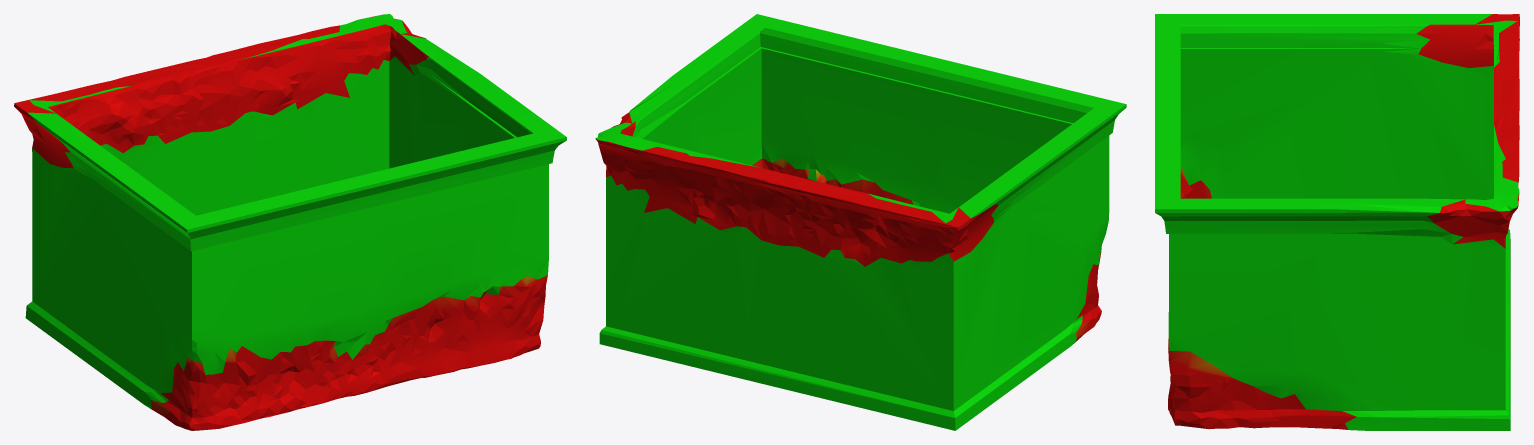
Rendered from BuildingBaseDam_03.fbx.
3 views of the same model, side by side, from view 1: azimuth 30°, elevation 25°; view 2: azimuth 150°, elevation 25°; view 3: azimuth 270°, elevation 25° (orthographic). The views are drawn at different scales.
Visible parts, largest first — view 1: Building3_BaseDamaged; view 2: Building3_BaseDamaged; view 3: Building3_BaseDamaged.
Part boxes in pixels (<box>): Building3_BaseDamaged: <box>14,14,566,430</box>; Building3_BaseDamaged: <box>595,14,1126,430</box>; Building3_BaseDamaged: <box>1155,14,1519,430</box>.
Bounding box in the file's own units: 558 × 303 × 440.
